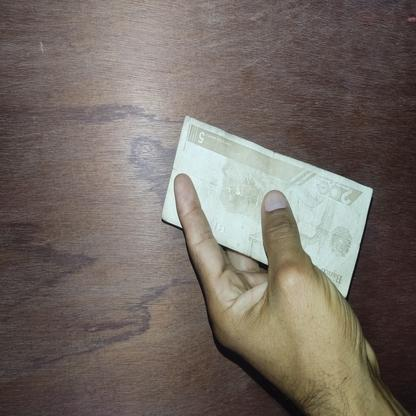five-back-vef: (162, 115, 373, 299)
